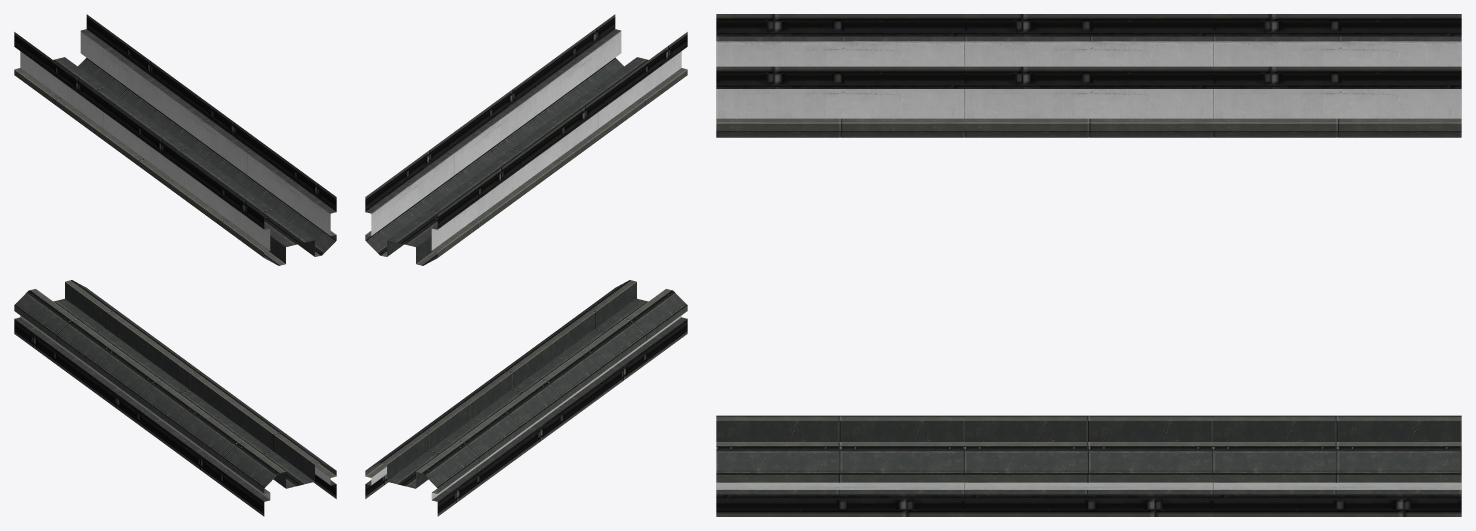
The model's file is Neon_WindowFrameMid_3.FBX.
3 renders of one model, left to right at view 1: azimuth 30°, elevation 25°; view 2: azimuth 150°, elevation 25°; view 3: azimuth 270°, elevation 25°, orthographic. The views are drawn at different scales.
Parts seen in each view (by area): view 1: Neon_WindowFrameMid_3; view 2: Neon_WindowFrameMid_3; view 3: Neon_WindowFrameMid_3.
Boxes of the visible parts, x1=… form: Neon_WindowFrameMid_3: x1=14, y1=14, x2=336, y2=516; Neon_WindowFrameMid_3: x1=365, y1=14, x2=687, y2=516; Neon_WindowFrameMid_3: x1=716, y1=14, x2=1461, y2=516.
Size of the model in its own units: 1 by 4 by 6.
